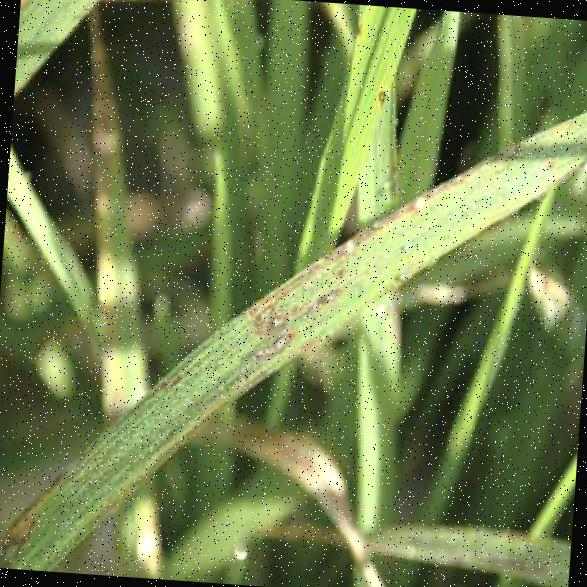Leaf_smut: (246, 314, 312, 375), (307, 280, 361, 326), (242, 288, 282, 335)
